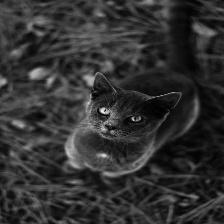kedo: (68, 75, 181, 141)
